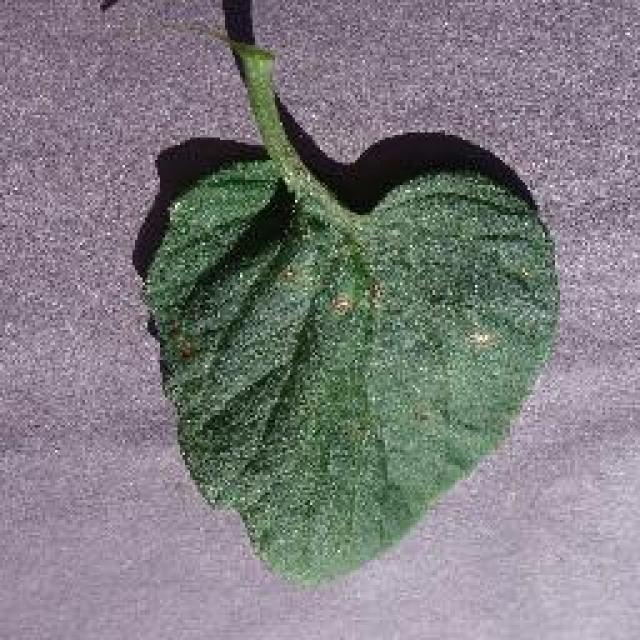Tomato___Target_Spot: (145, 50, 555, 578)
